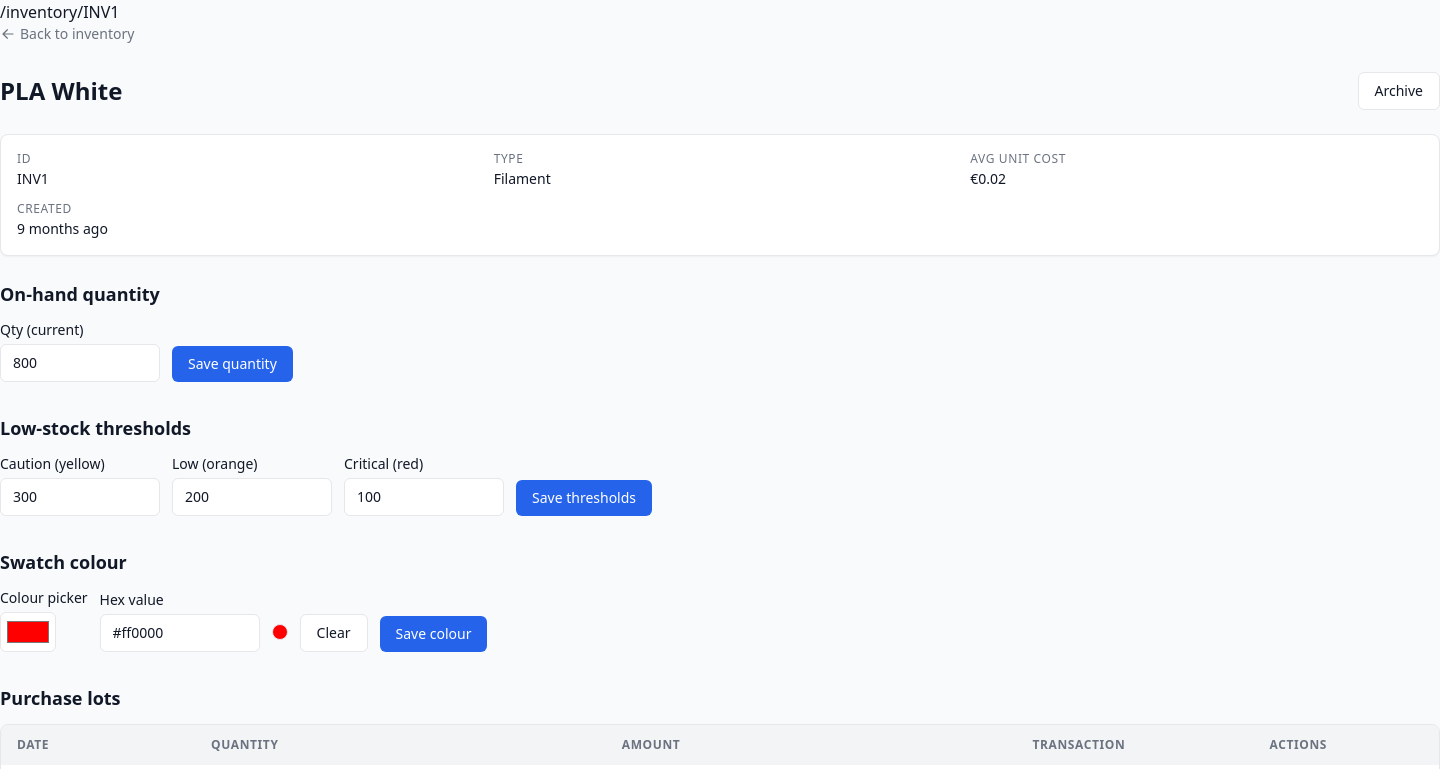
Scenario: InventoryDetailPage › QtyEditor › rejects a negative count
Replace the text in the number field with test id "inventory-detail-qty-current" with "-5". click: (80, 363)
box: [0,344,160,382]
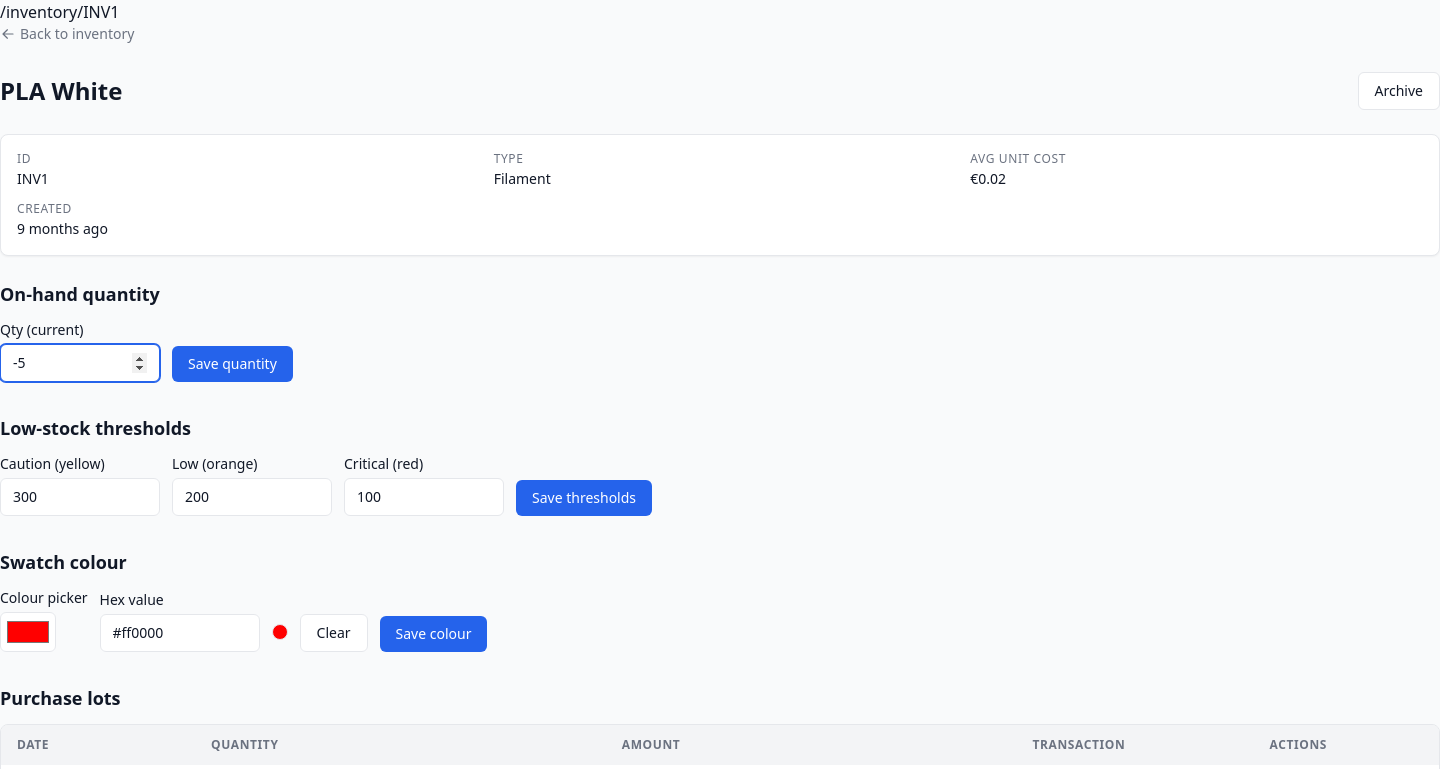
Click the button with test id "inventory-detail-save-qty". click: (232, 364)
box: [172,346,293,382]
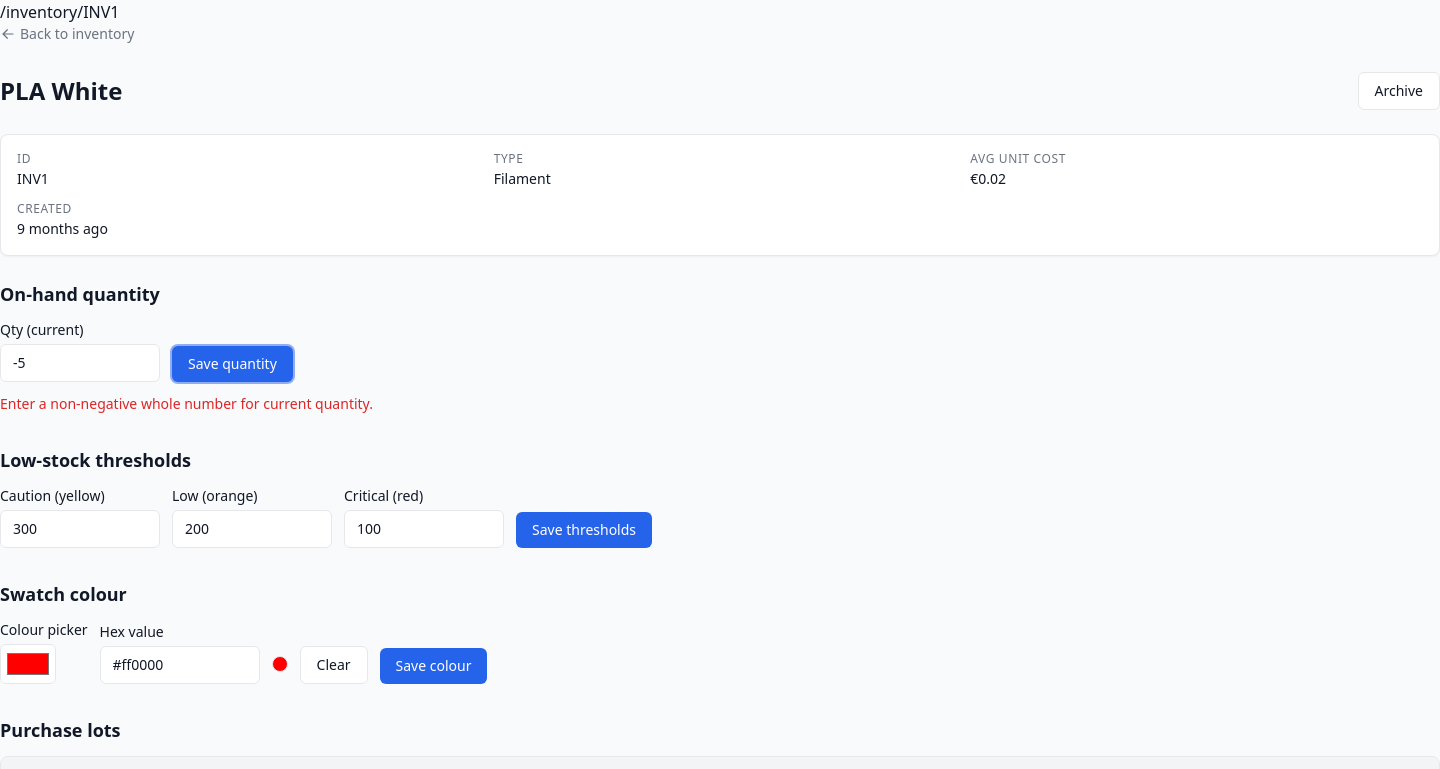
Now the message shows "non-negative", box [0,394,373,413]
